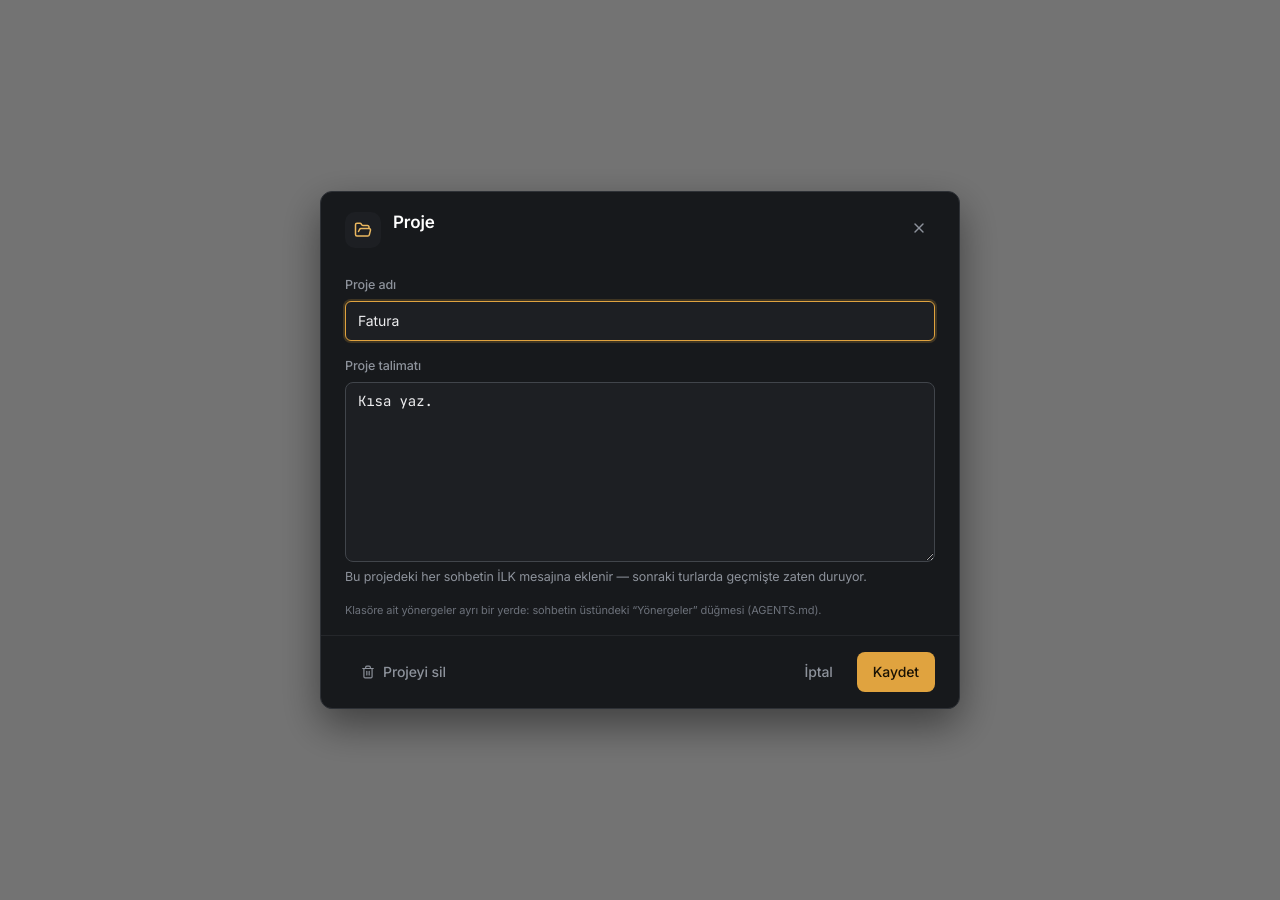
Scenario: ChatProjectDialog › değişiklik varken X önce soruyor
Replace the text in the text box labelled "Proje talimatı" with "Uzun yaz." at (640, 472), box top-left (345, 382), bottom-right (935, 562)
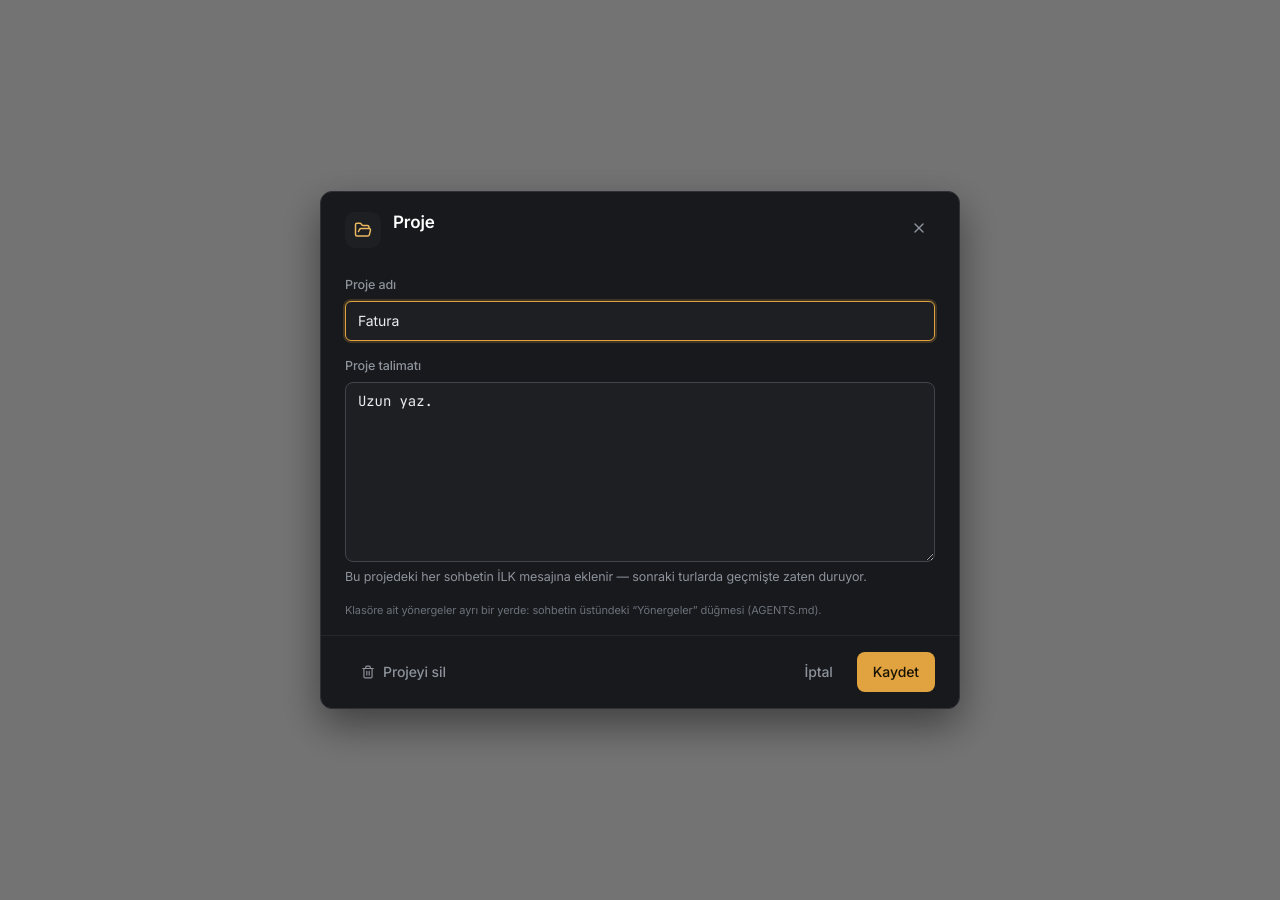
Click the button named "Kapat".
click(919, 228)  # box top-left (903, 212), bottom-right (935, 244)
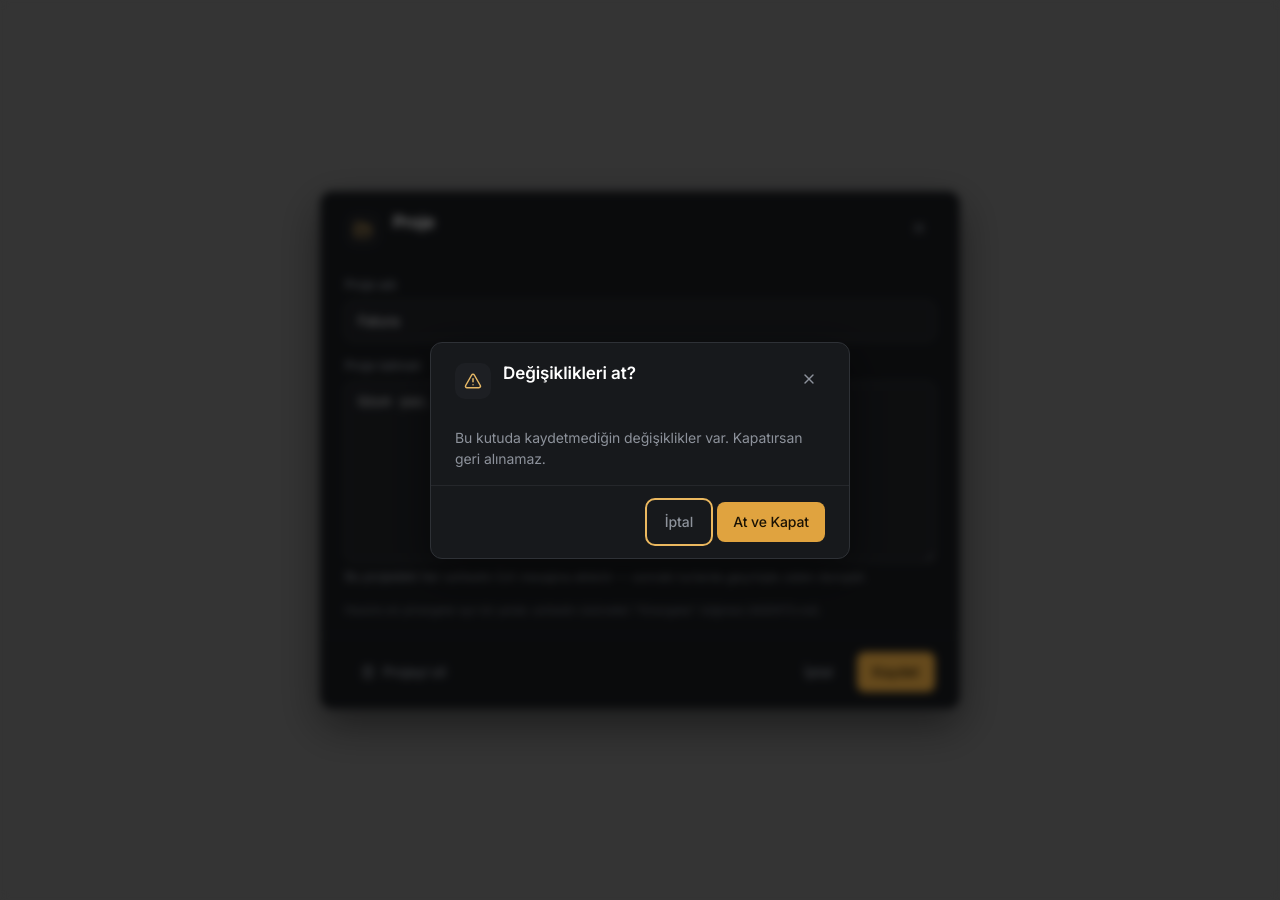
Expected: the heading "Değişiklikleri at?" is shown, top-left (503, 362), bottom-right (636, 382)
